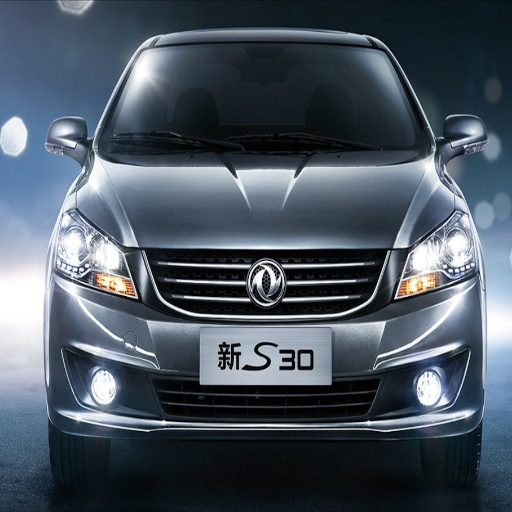front_bumper: (50, 248, 482, 431)
front_right_light: (54, 206, 137, 299)
hood: (79, 151, 455, 318)
left_mirror: (443, 114, 487, 157)
